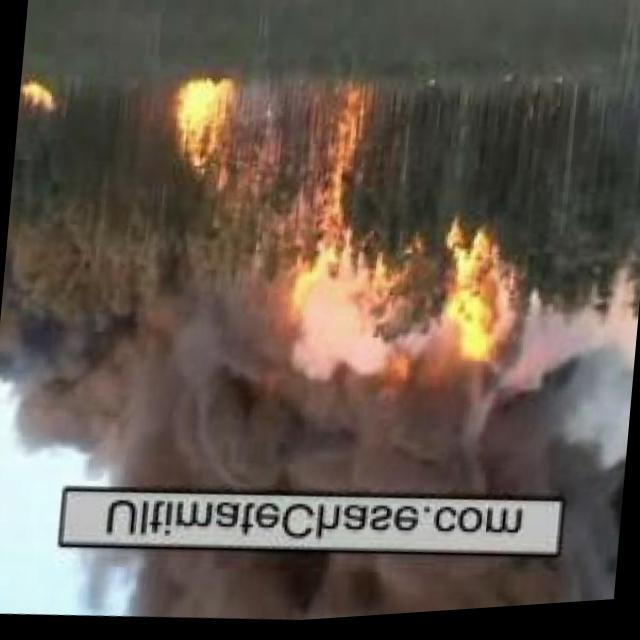Fire: (289, 77, 385, 298), (430, 218, 530, 386), (165, 86, 238, 181), (18, 72, 62, 115)
